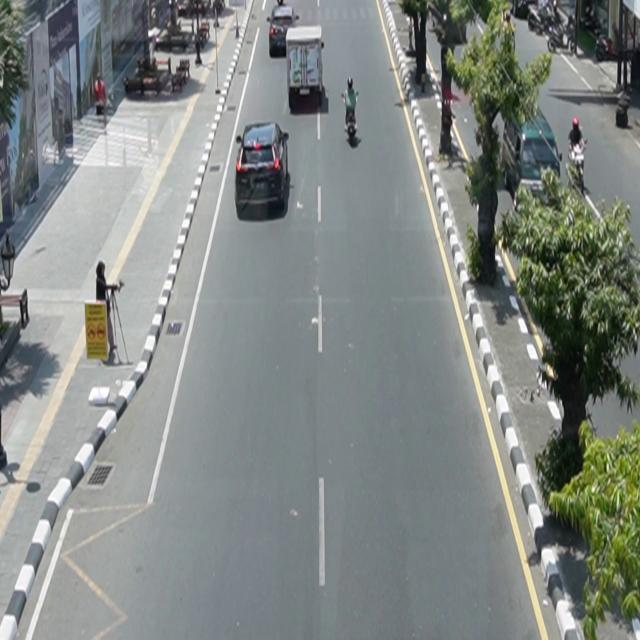car: (503, 101, 564, 213), (236, 122, 291, 212), (267, 4, 300, 58)
truck: (286, 26, 326, 112)
